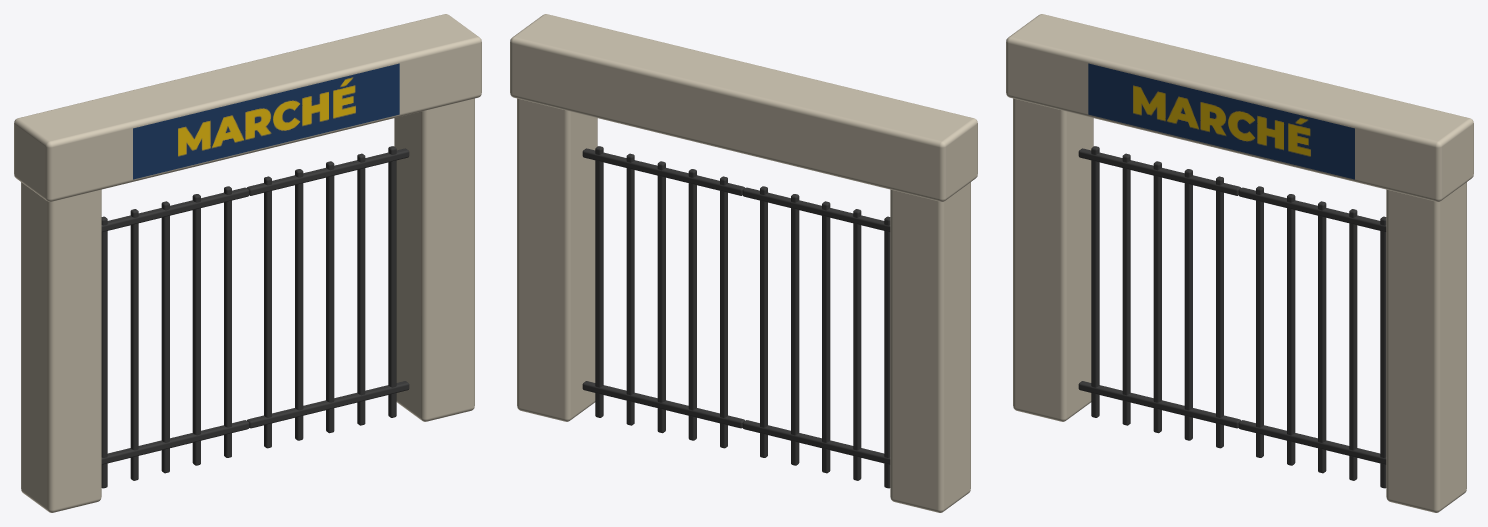
The model's file is portail_marche.glb.
The picture shows the model from 3 angles, left to right: view 1: azimuth 30°, elevation 25°; view 2: azimuth 150°, elevation 25°; view 3: azimuth 330°, elevation 25°; orthographic projection.
Size of the model in its own units: 9.8 by 8.05 by 1.42.
4 materials, 1 textured.
